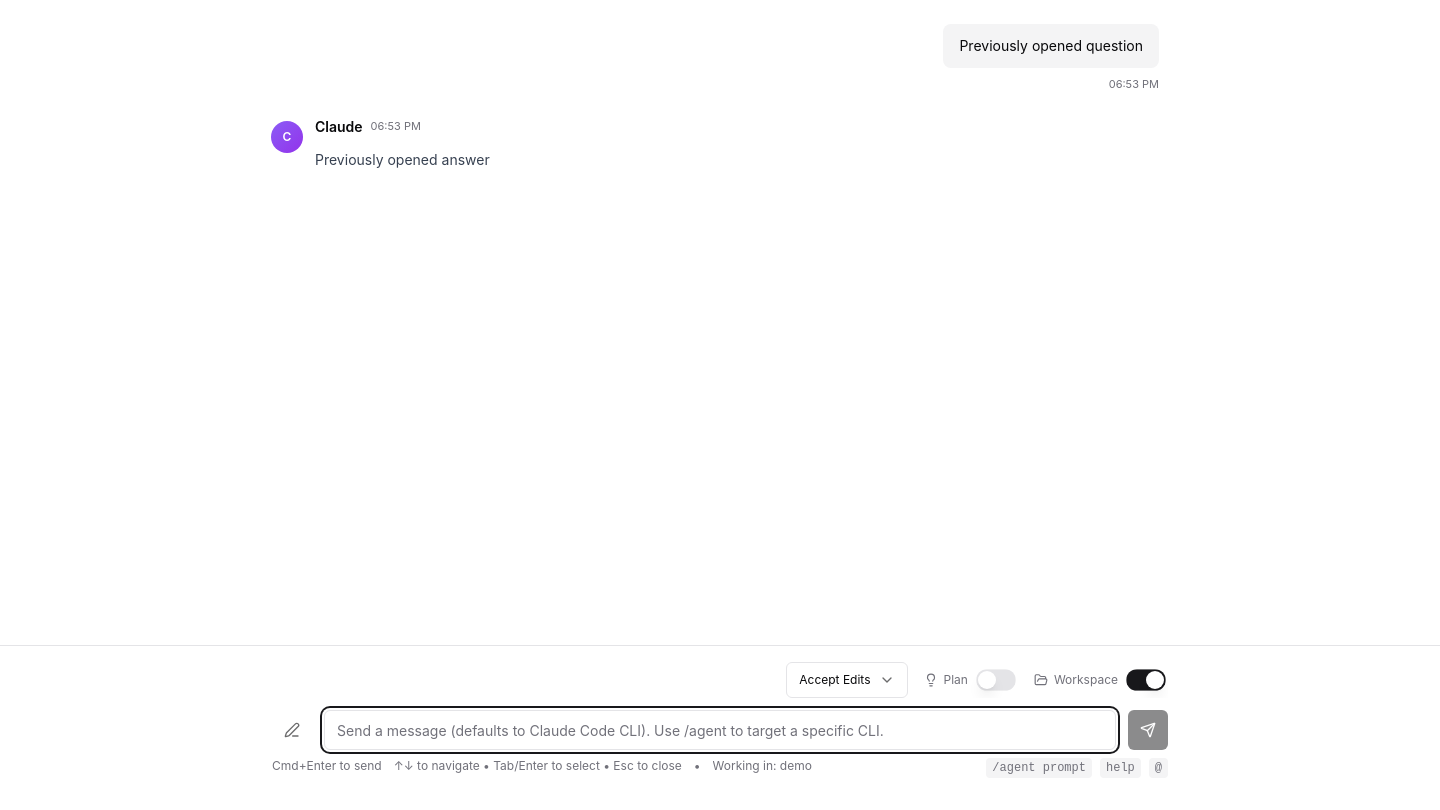
Test case: ChatInterface loaded session restore behavior › continues the loaded chat session on the next typed message
Check: the text "Previously opened question" is shown, box [959,36,1143,56]
Replace the text in the field with "continue this session" at (720, 730), box [324,710,1116,750]
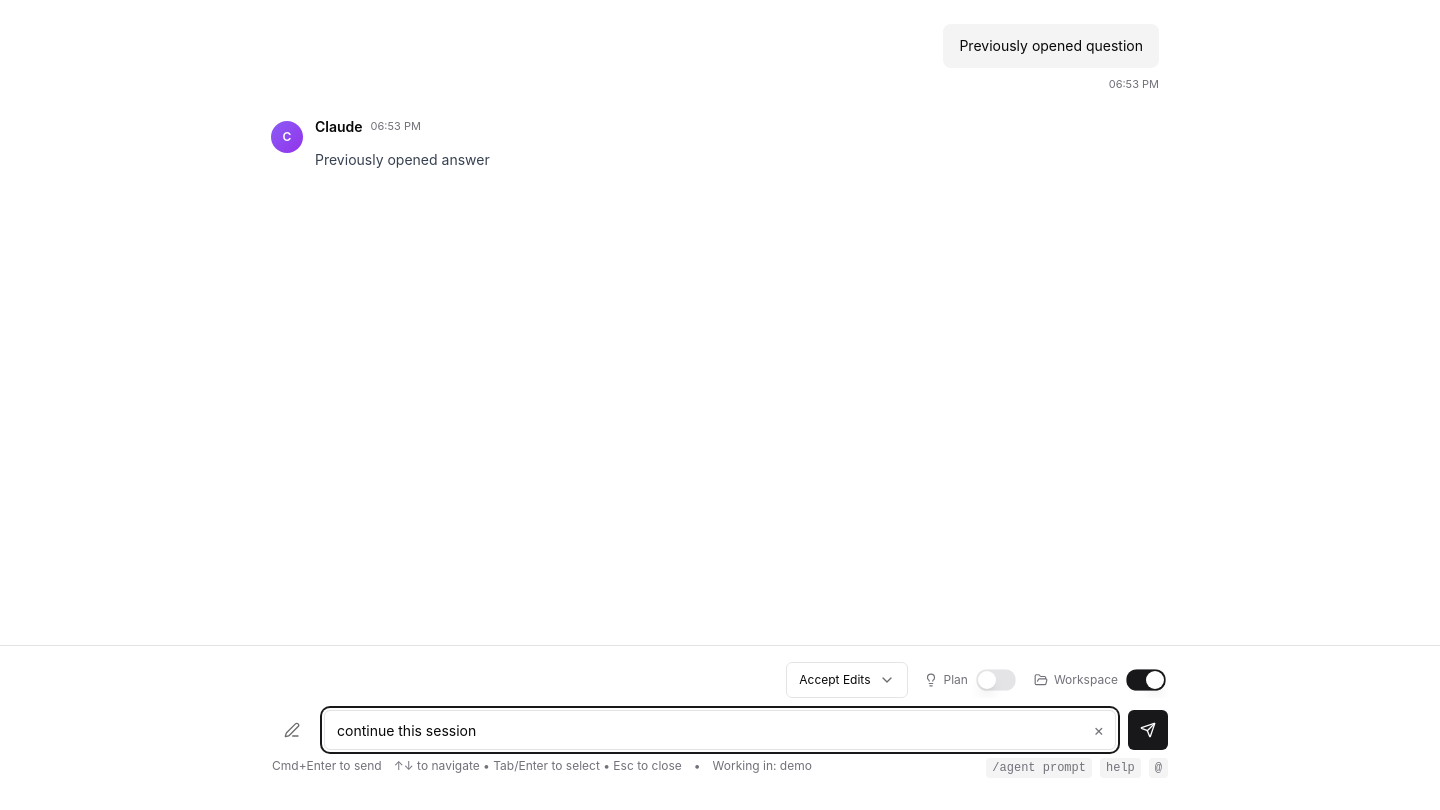
Press Enter in the field, box [324,710,1116,750]
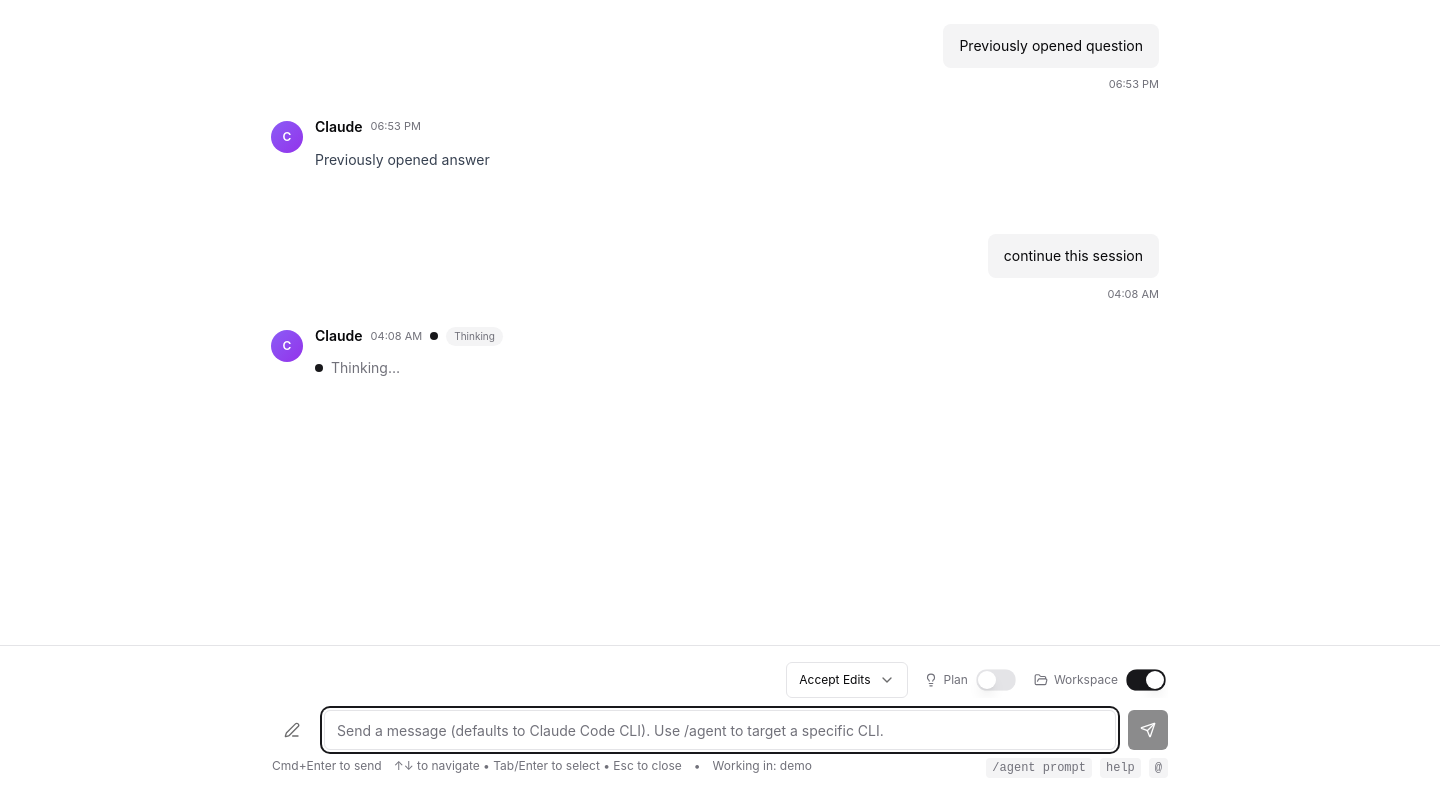
Check: the text "Previously opened answer" is shown, box [315,148,490,170]
Check: the text "continue this session" is shown, box [1004,246,1143,266]
